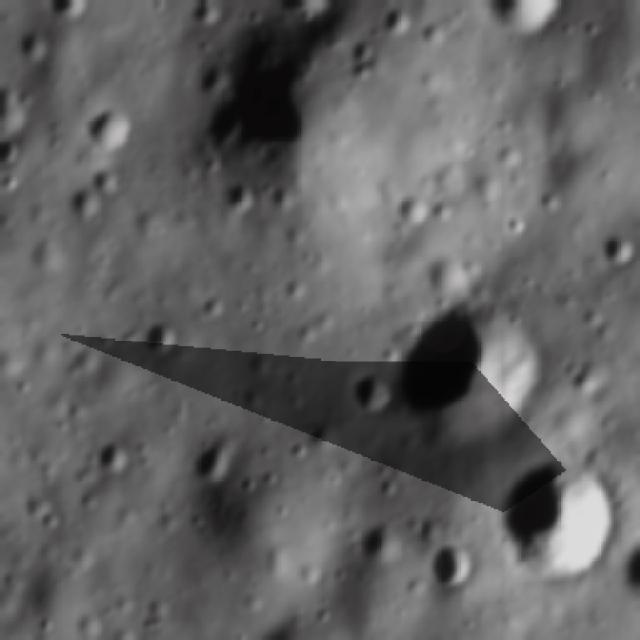crater: (388, 289, 548, 456), (185, 22, 350, 158), (492, 445, 626, 583), (180, 420, 249, 489), (466, 0, 580, 37), (82, 94, 142, 158), (421, 531, 476, 594), (342, 362, 395, 422), (0, 68, 35, 139), (215, 169, 263, 220), (135, 315, 188, 357), (598, 219, 640, 266), (95, 432, 132, 478), (373, 0, 418, 37), (67, 181, 101, 221), (396, 187, 432, 224), (38, 0, 92, 23), (272, 0, 339, 17), (185, 0, 224, 28), (88, 164, 120, 196), (278, 272, 308, 300), (348, 32, 378, 59), (200, 289, 226, 320), (626, 46, 640, 100), (348, 55, 374, 83), (431, 196, 454, 224), (0, 134, 20, 166), (0, 166, 18, 195)
